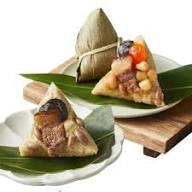zongzi: (19, 83, 97, 156), (92, 37, 163, 105), (75, 8, 117, 81)
